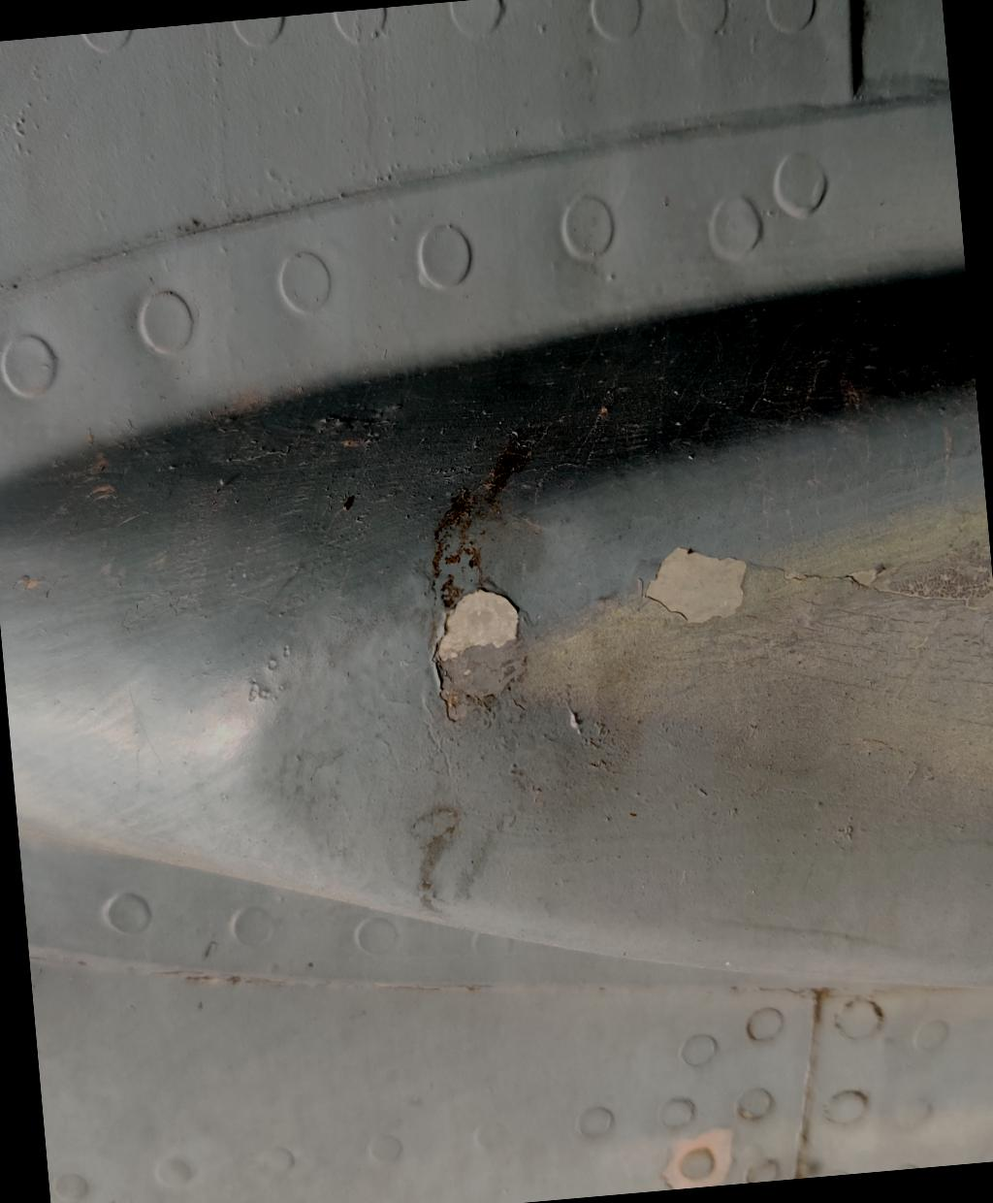corrosion: (403, 444, 545, 733), (630, 529, 755, 646)
